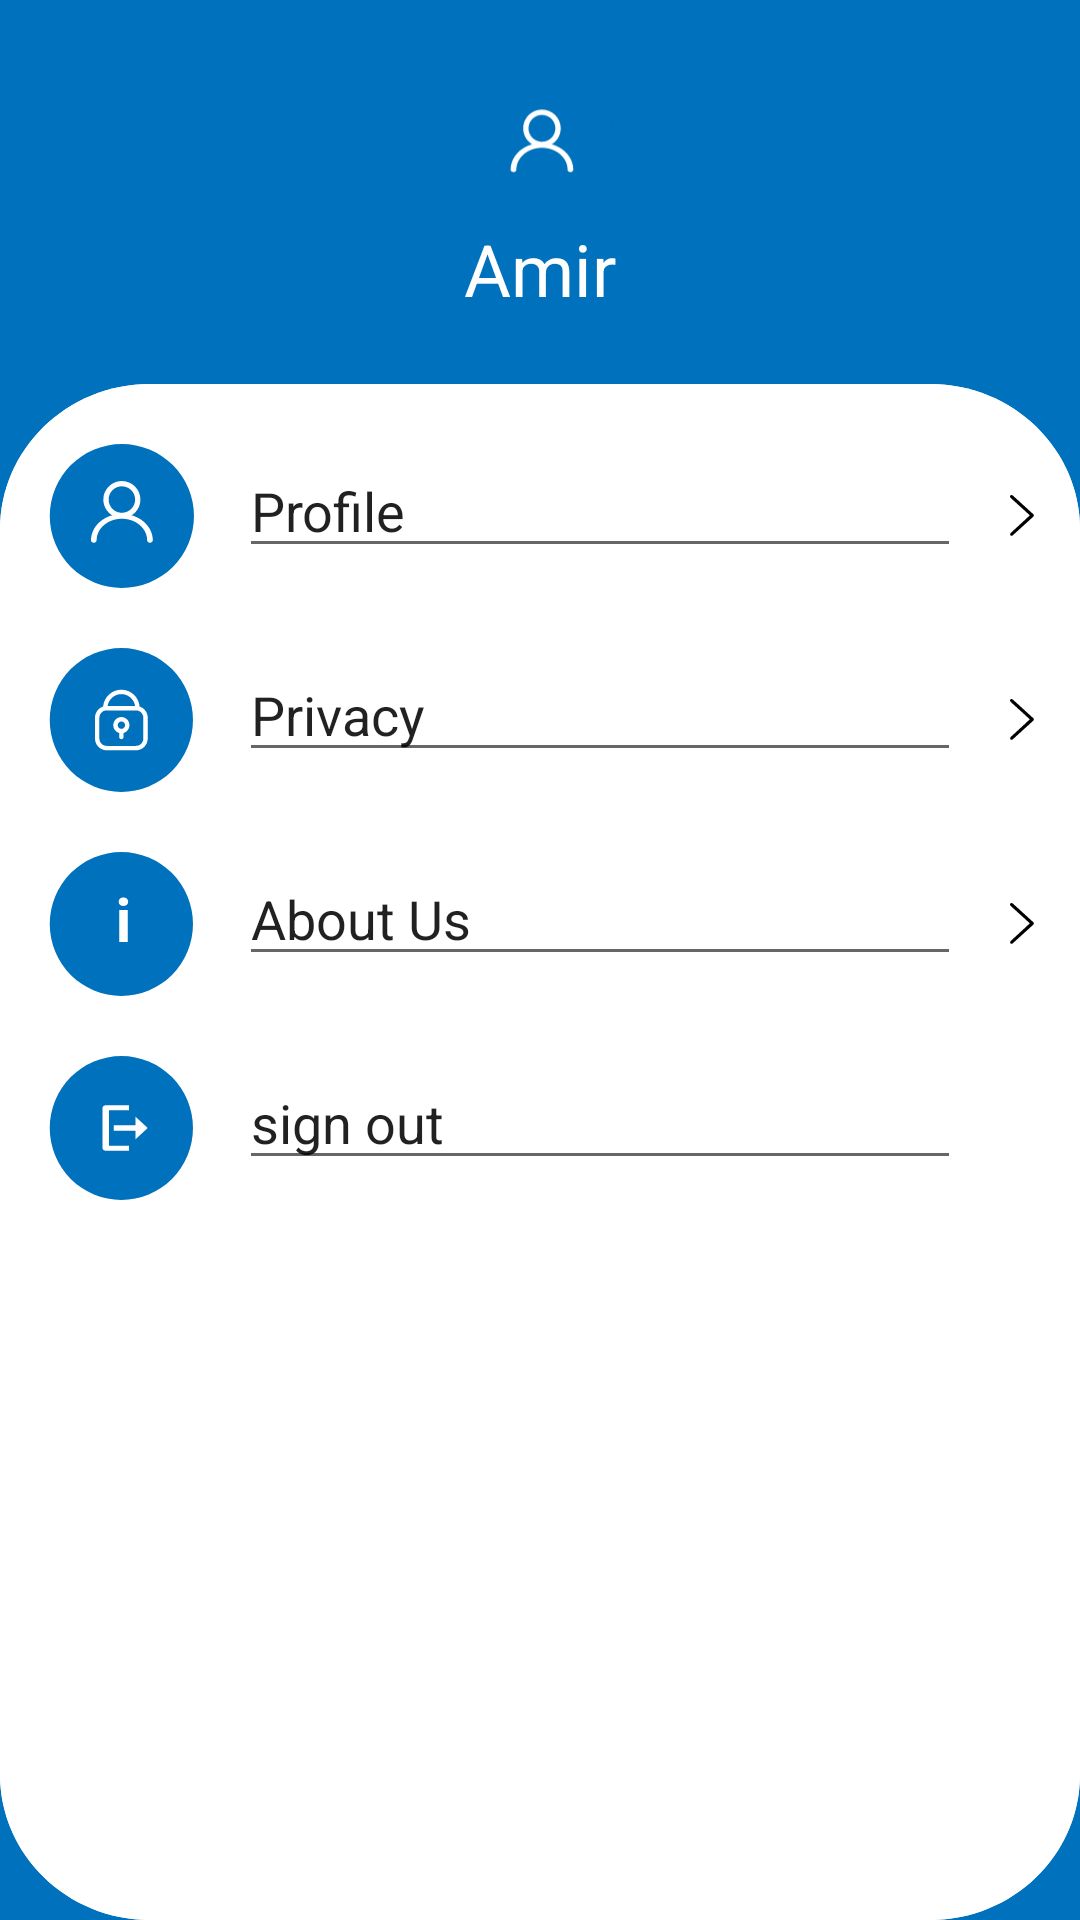

Locate icon controls on the screen. Image size 1080×1920, boxes as bbox=[x1, y1, x2, y2].
person: bbox=[510, 109, 574, 173], bbox=[49, 444, 194, 588]
